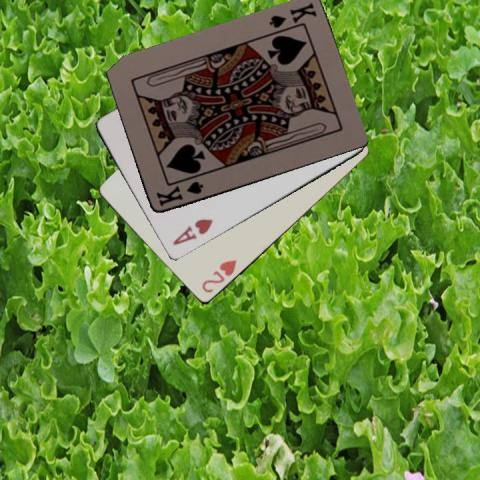2h: (199, 257, 238, 295)
Ah: (169, 216, 215, 247)
Ks: (265, 0, 318, 30), (153, 178, 204, 208)
